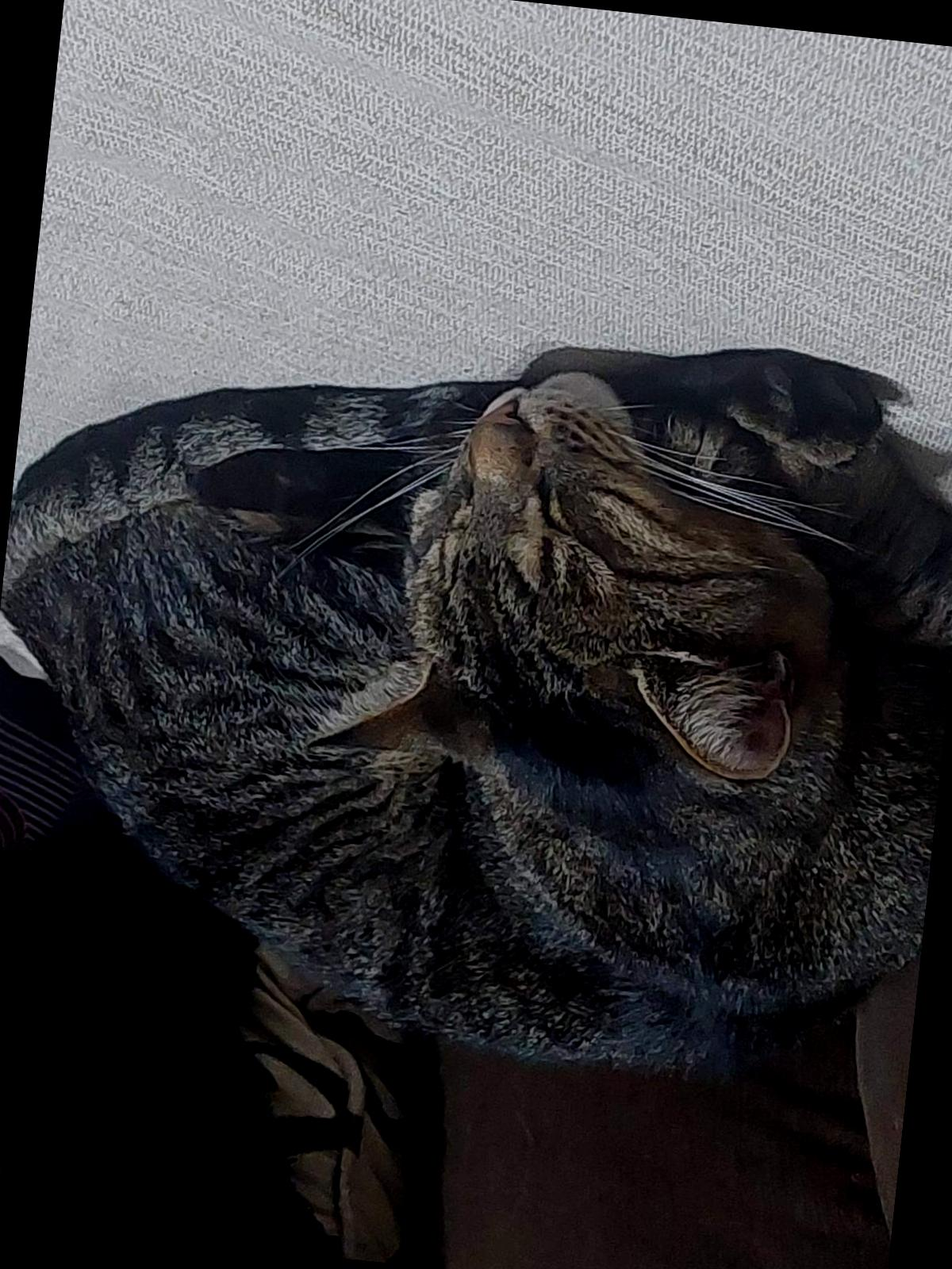macka: (0, 271, 952, 1102)
